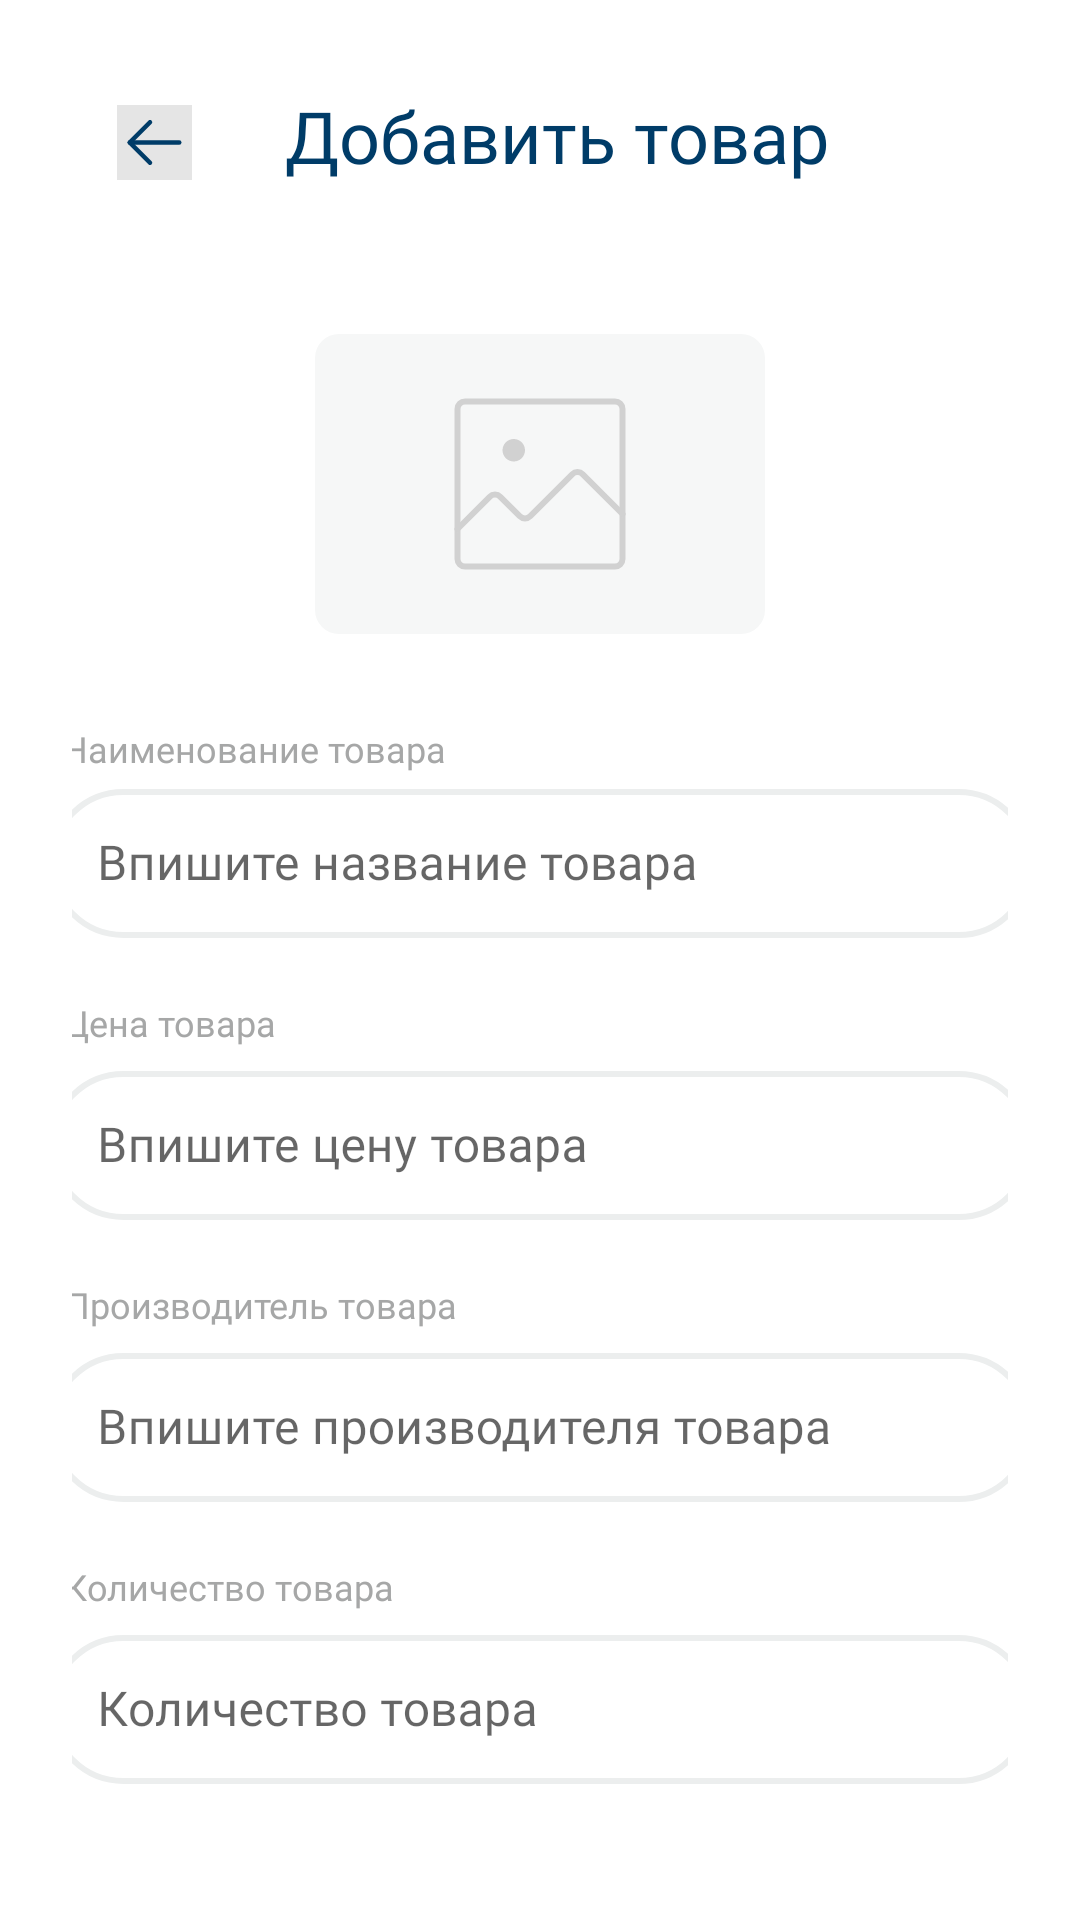

Screen size 1080px x 1920px. Icon name, then its center in pixels as (x=x, y=y):
arrowleft: (x=154, y=142)
